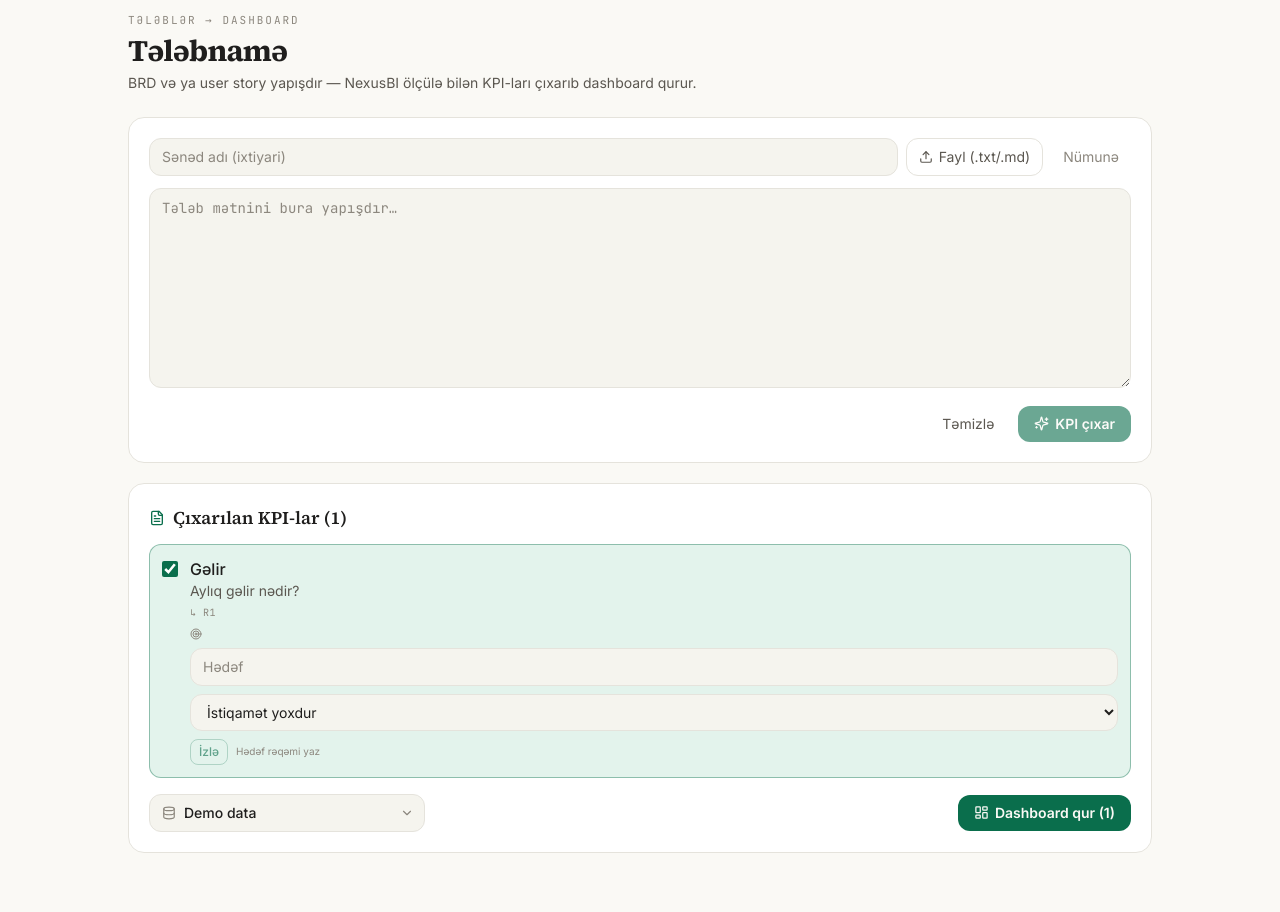
Scenario: RequirementsPage acceptance criterion › will not track a KPI with no number, because there is nothing to test
Expected: the button "İzlə" is disabled, [190,738,228,764]
Type "5" into the number field named "Qəbul meyarı". click: x=654, y=666
box: [190,648,1118,686]
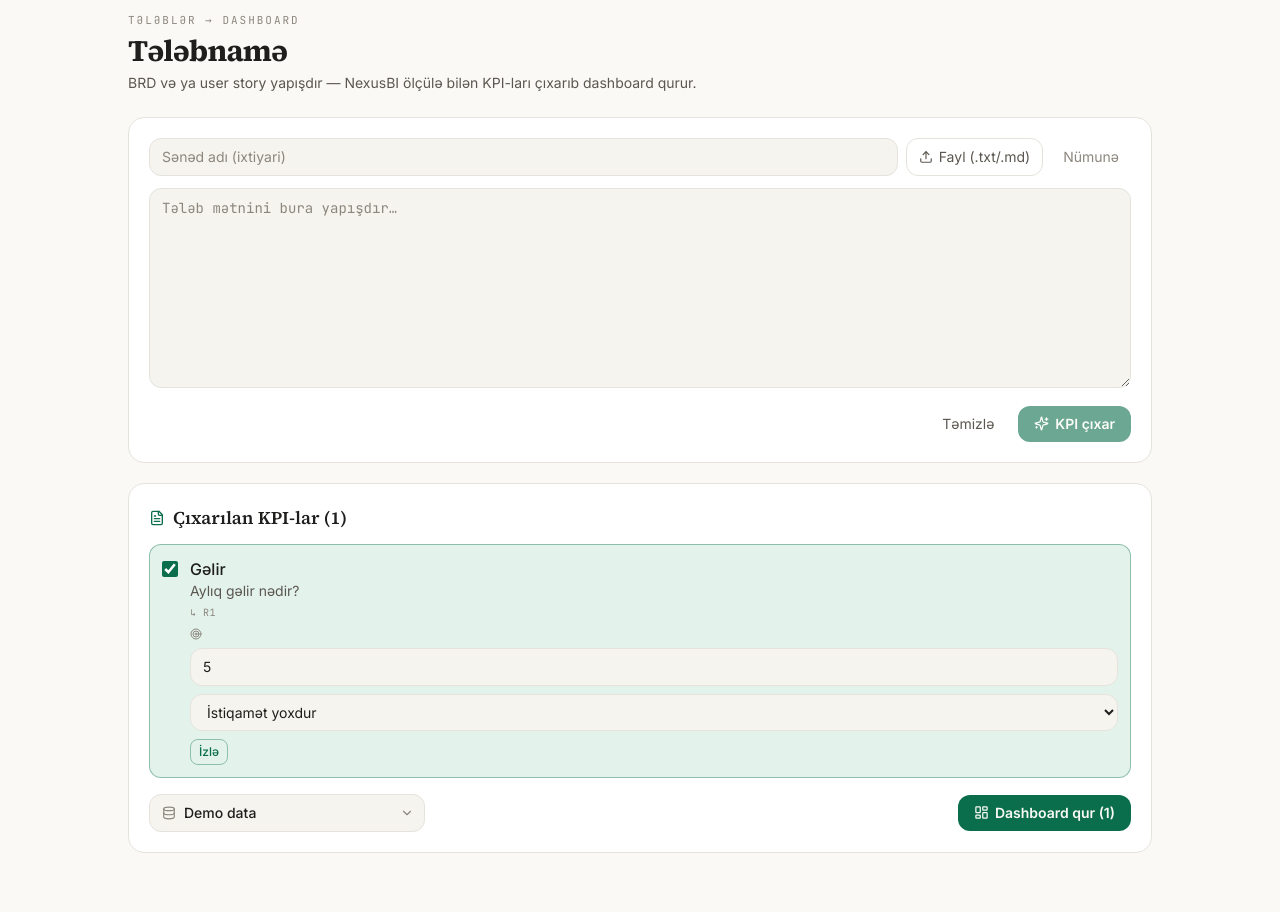
Now the button "İzlə" is enabled, box [190,738,228,764]
